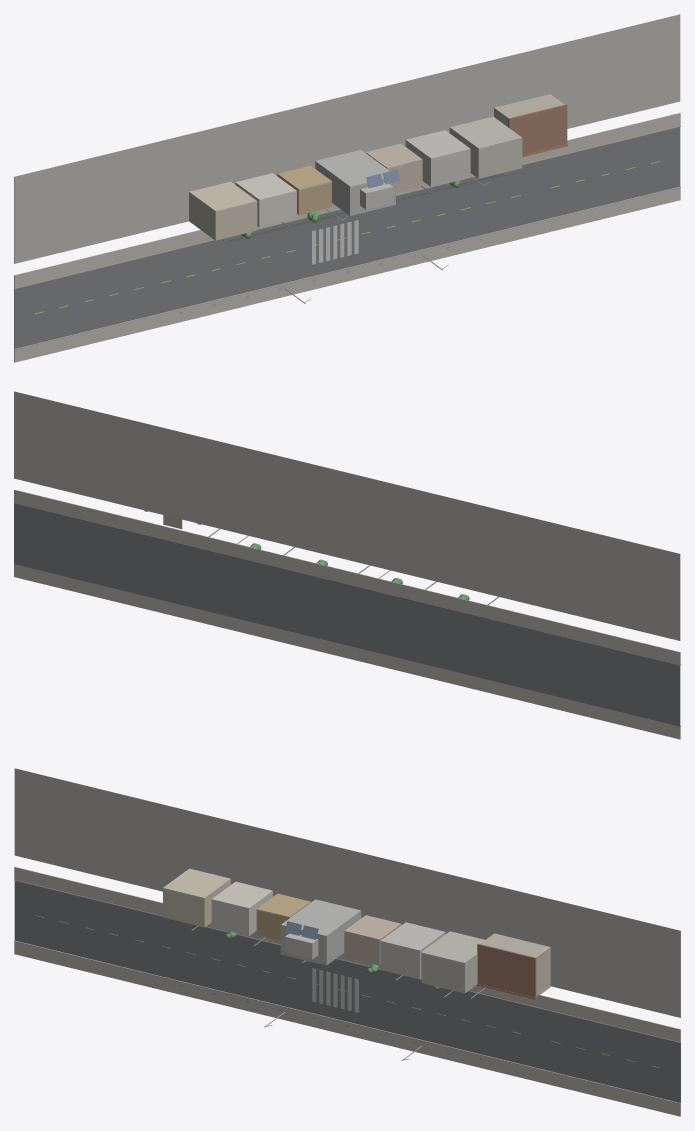
File: kien_an_road.glb
3 renders of one model, top to bottom at view 1: azimuth 30°, elevation 25°; view 2: azimuth 150°, elevation 25°; view 3: azimuth 330°, elevation 25°, orthographic.
Parts seen in each view (by area): view 1: back_lot, road, back_lot_extension_-1, back_lot_extension_1, road_extension_1, road_extension_-1, sidewalk_school_side, shop_a_body, shop_f_body, tall_house_body, shop_e_body, student_parking_roof (+11 smaller); view 2: back_lot, road, back_lot_extension_-1, back_lot_extension_1, road_extension_1, road_extension_-1, sidewalk_houses, sidewalk_school_side, house_sidewalk_extension_1, house_sidewalk_extension_-1, opposite_sidewalk_extension_1, opposite_sidewalk_extension_-1; view 3: back_lot, road, back_lot_extension_-1, back_lot_extension_1, road_extension_-1, road_extension_1, sidewalk_school_side, shop_f_body, tall_house_body, shop_a_body, student_parking_roof, shop_e_body (+12 smaller).
Part boxes in pixels (x1,y1,x2,y2): back_lot: (149,47,544,230); road: (149,160,544,315); back_lot_extension_-1: (14,144,149,263); back_lot_extension_1: (545,14,680,128); road_extension_1: (545,127,680,219); road_extension_-1: (14,256,149,348); sidewalk_school_side: (150,221,545,329); shop_a_body: (189,181,257,240); shop_f_body: (449,116,522,178); tall_house_body: (315,150,395,215); shop_e_body: (405,130,470,186); student_parking_roof: (508,104,567,154); back_lot: (149,424,544,607); road: (149,536,544,693); back_lot_extension_-1: (545,521,680,640); back_lot_extension_1: (14,391,149,511); road_extension_1: (14,503,149,596); road_extension_-1: (545,632,680,726); sidewalk_houses: (149,522,544,632); sidewalk_school_side: (149,597,544,706); house_sidewalk_extension_1: (14,489,149,535); house_sidewalk_extension_-1: (545,619,680,665); opposite_sidewalk_extension_1: (14,564,149,609); opposite_sidewalk_extension_-1: (545,694,680,739); back_lot: (150,801,545,945); road: (150,914,545,1069); back_lot_extension_-1: (14,768,149,888); back_lot_extension_1: (545,898,680,1017); road_extension_-1: (14,881,149,973); road_extension_1: (545,1010,680,1102); sidewalk_school_side: (149,975,544,1083); shop_f_body: (421,931,484,993); tall_house_body: (280,899,361,965); shop_a_body: (163,868,230,927); student_parking_roof: (477,943,536,997); shop_e_body: (380,922,445,978).
Size of the model in its own units: 160 by 42.6 by 17.64.
